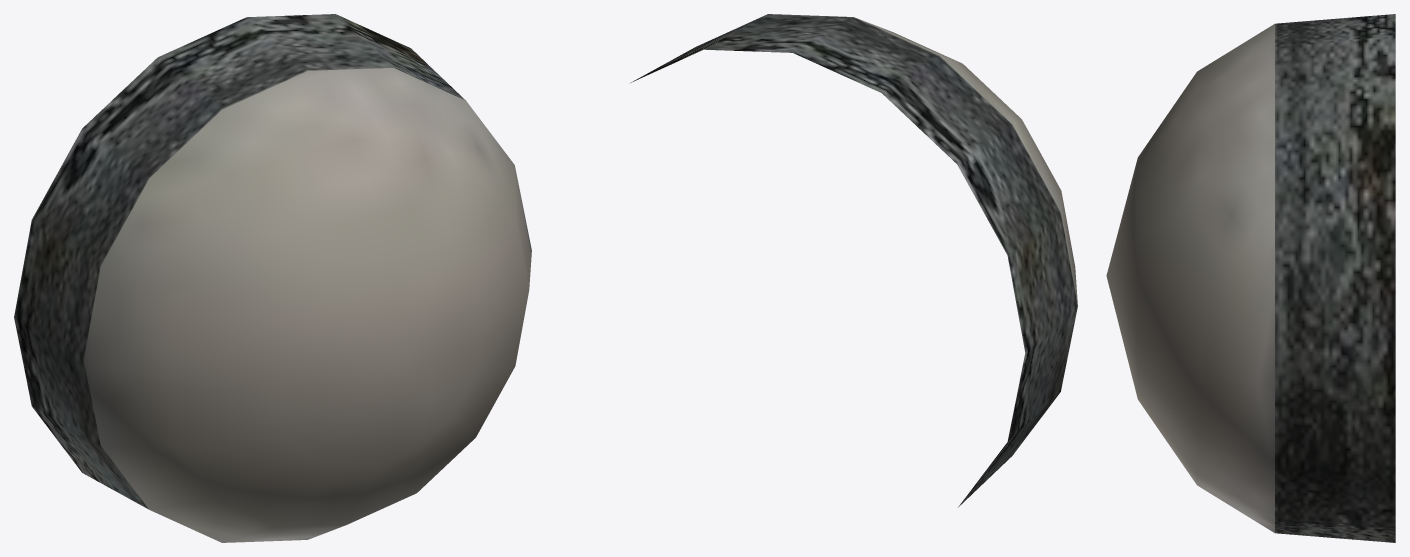
Rendered from bunker_ceiling_light_off.glb.
3 renders of one model, left to right at view 1: azimuth 30°, elevation 25°; view 2: azimuth 150°, elevation 25°; view 3: azimuth 270°, elevation 25°, orthographic.
Size of the model in its own units: 11.92 by 11.92 by 6.51.
Materials: 1 (1 with a texture image).
